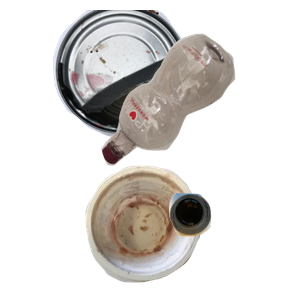glass: (166, 190, 300, 300)
metal: (50, 10, 262, 140)
plastic: (99, 31, 300, 189)
trash: (83, 163, 276, 300)
